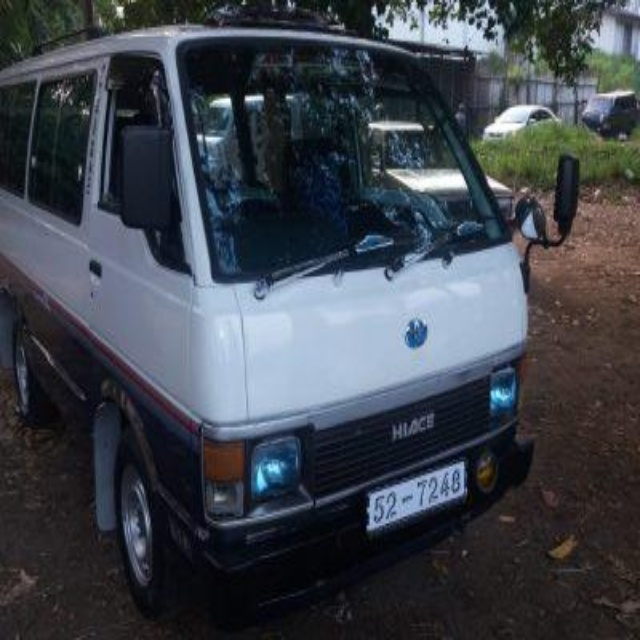Car: (480, 103, 562, 149)
Van: (2, 25, 574, 622), (581, 89, 637, 142)
